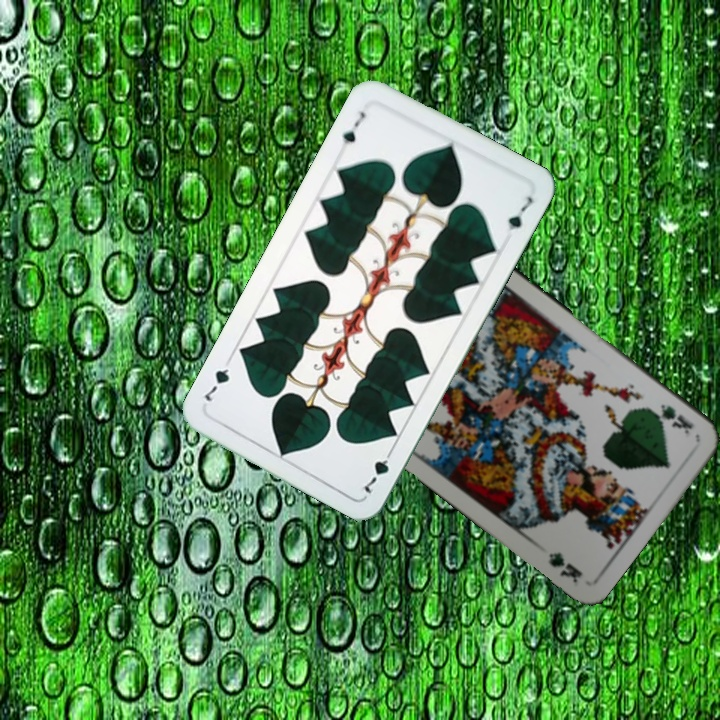G7: (359, 443, 397, 496), (338, 107, 368, 147)
GK: (644, 399, 696, 437)
